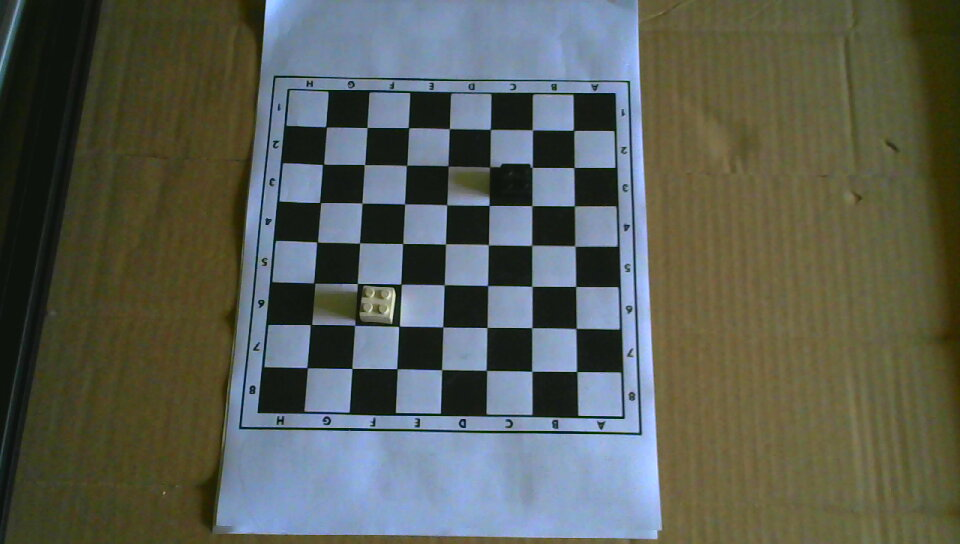bp: (498, 163, 533, 203)
wp: (359, 284, 395, 326)
